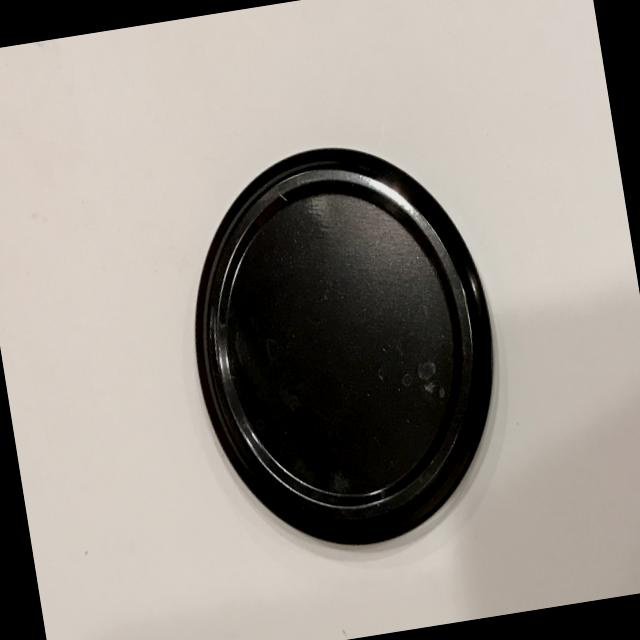Metal: (146, 86, 545, 588)
